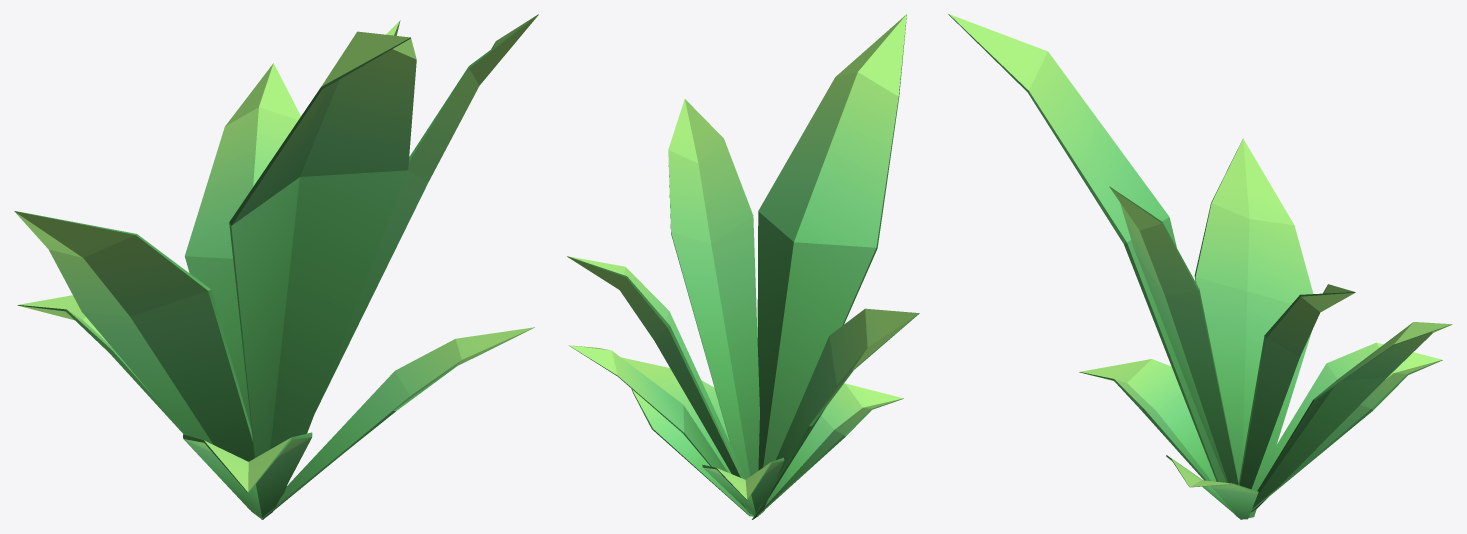
The model's file is GrassPatch1.fbx.
The picture shows the model from 3 angles, left to right: view 1: azimuth 30°, elevation 25°; view 2: azimuth 150°, elevation 25°; view 3: azimuth 270°, elevation 25°; orthographic projection. The views are drawn at different scales.
Parts seen in each view (by area): view 1: GrassPatch1; view 2: GrassPatch1; view 3: GrassPatch1.
Boxes of the visible parts, x1,y1,x2,y2 form: GrassPatch1: [14, 14, 538, 519]; GrassPatch1: [567, 14, 919, 519]; GrassPatch1: [948, 14, 1452, 519].
Bounding box in the file's own units: 36.99 × 45.66 × 42.51.
